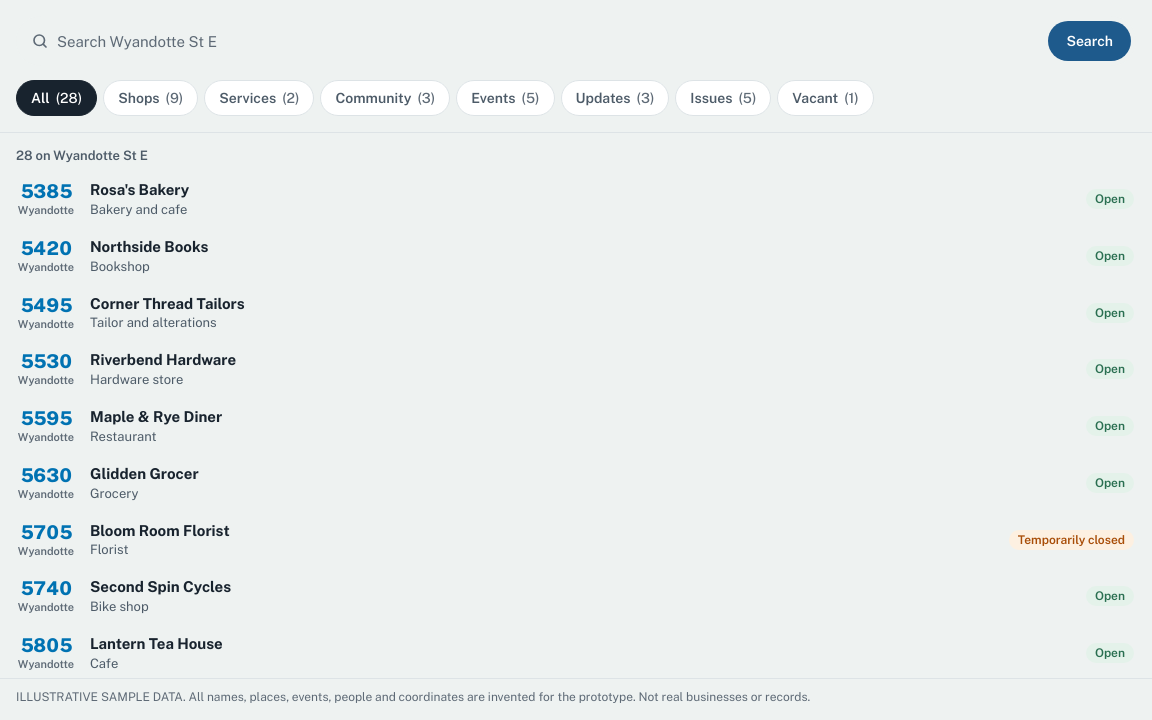
Test: SearchAndFilters › filters pins and cards together when a chip is clicked
The width and height of the screenshot is (1152, 720).
Click the button "Events (5)".
click(505, 98)  # box [456,80,554,116]
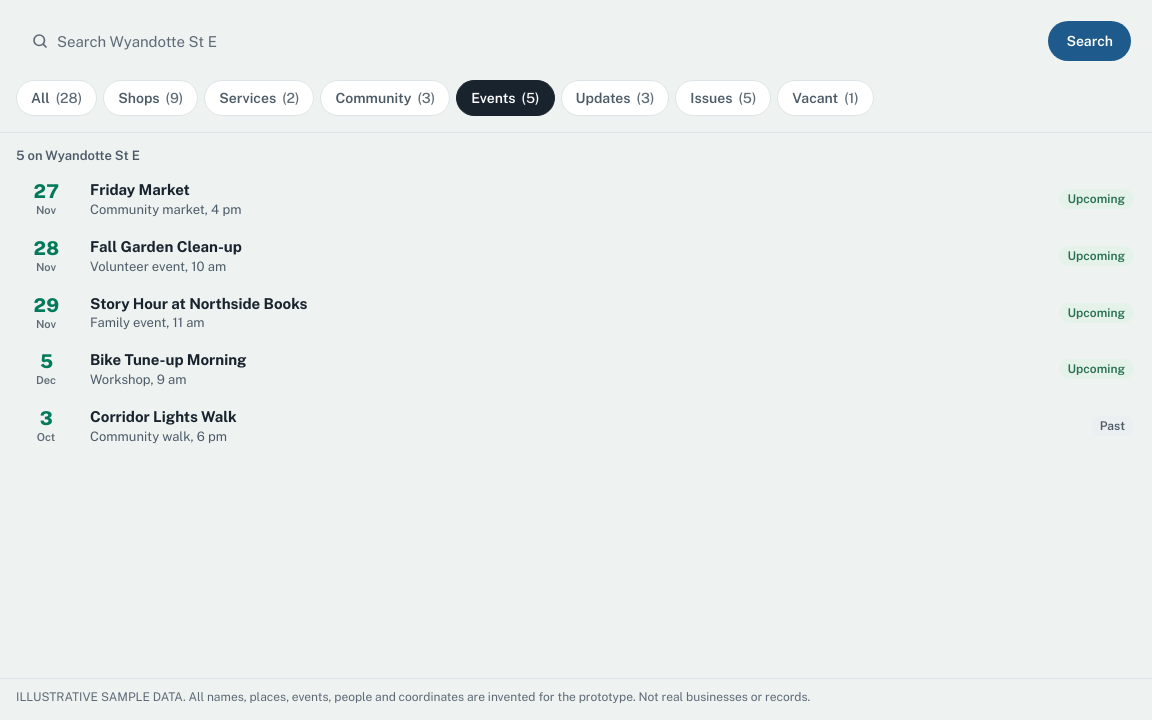
Expected: the number of list items is 5, [8,171,1144,227]; [8,227,1144,284]; [8,284,1144,340]; [8,340,1144,397]; [8,397,1144,454]
